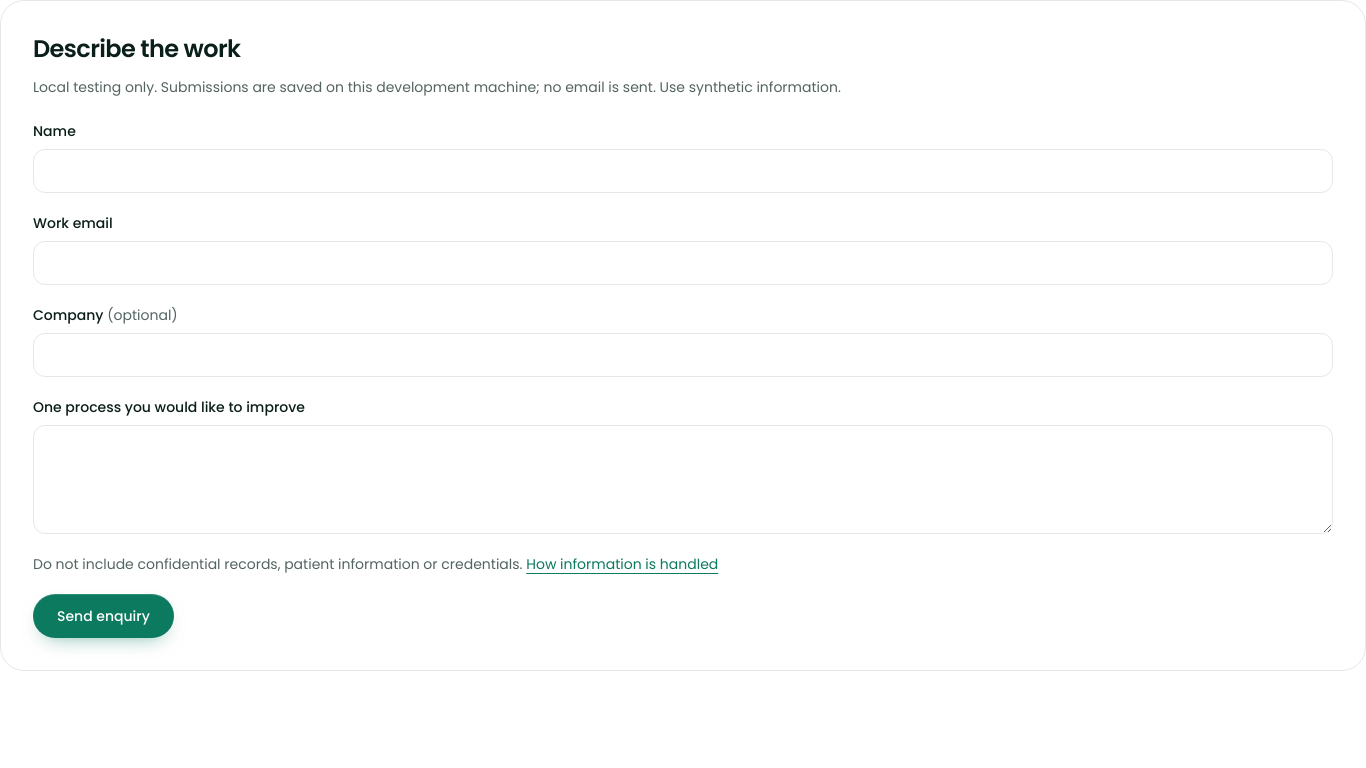
Test: contact flow › keeps values and presents API errors without success
This screenshot has width=1366, height=768.
Step 1. Type "Test user" into the field labelled "Name" → point(683, 171), box [33,149,1333,193]
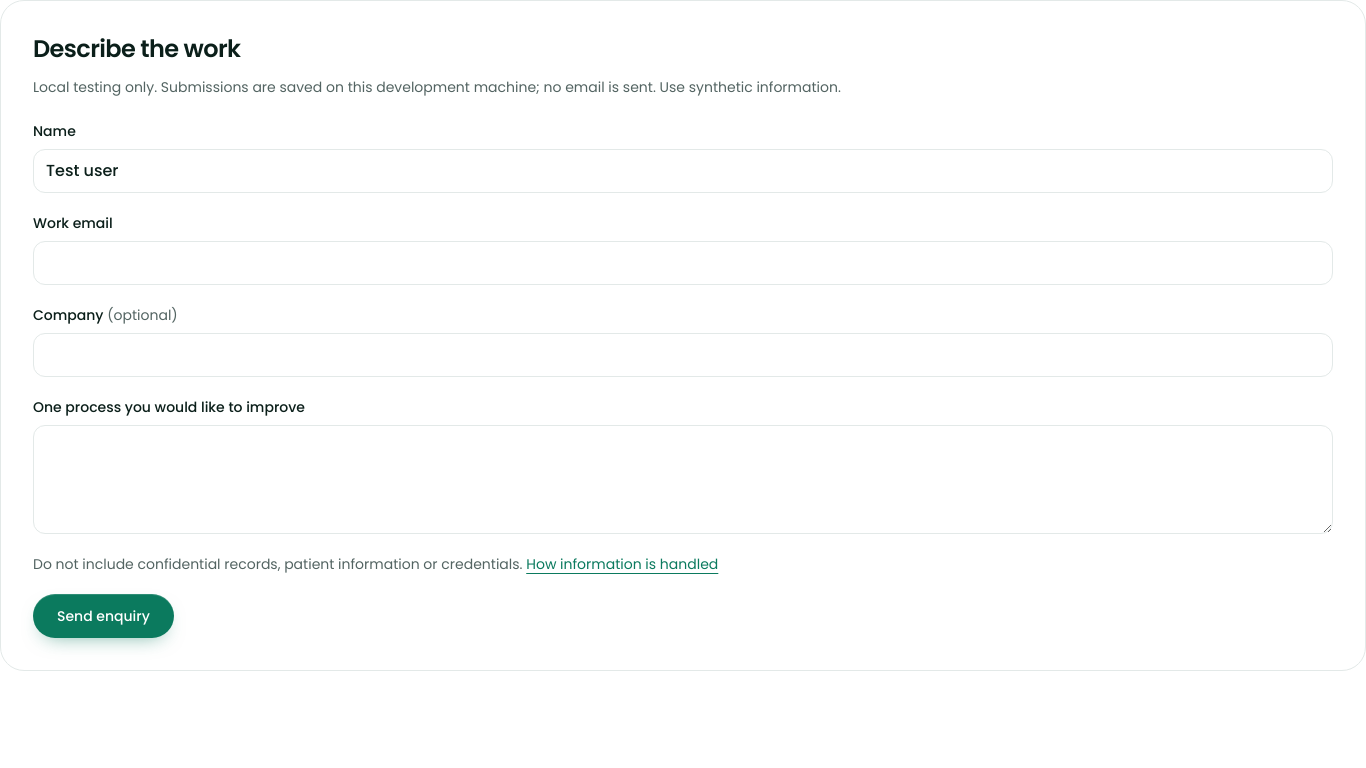
Step 2. Type "test@example.invalid" into the field labelled "Work email" → point(683, 263), box [33,241,1333,285]
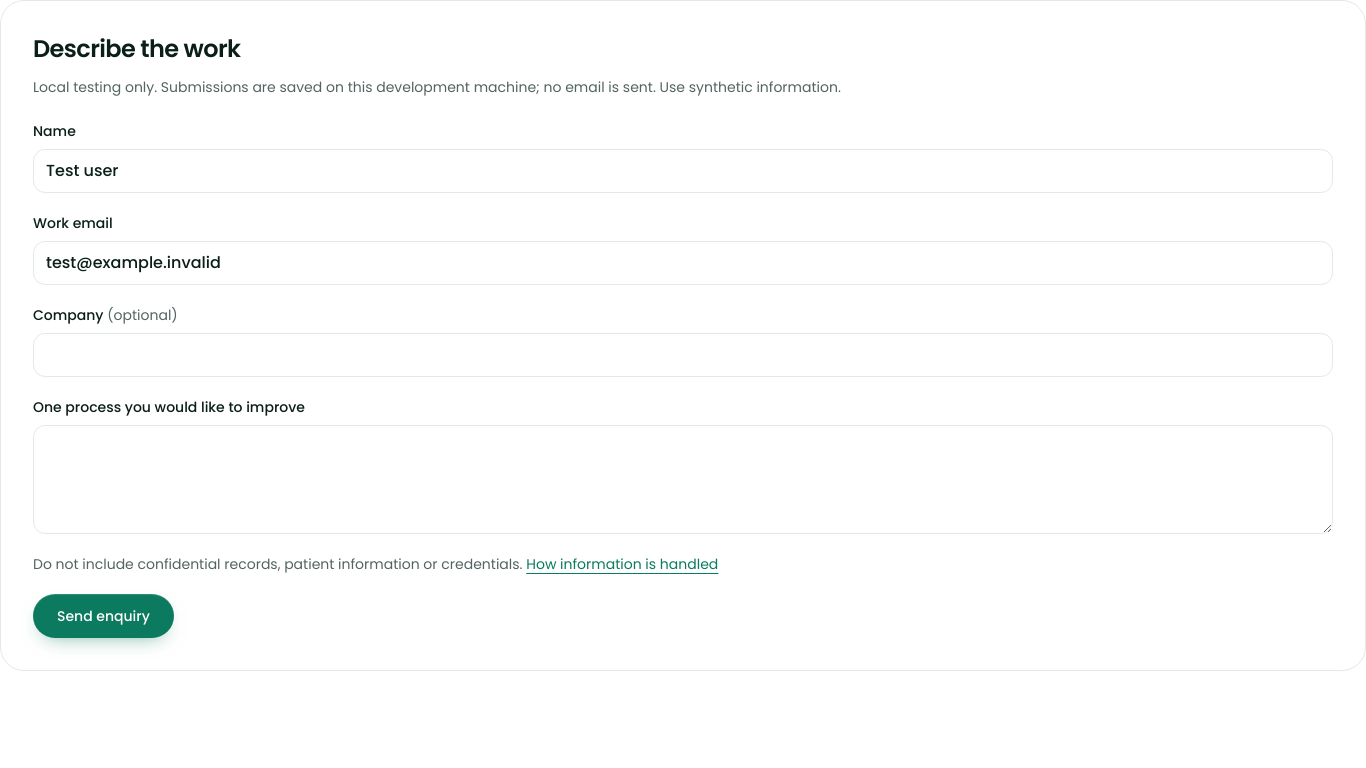
Step 3. Type "Synthetic workflow" into the text box labelled "One process you would like to improve" → point(683, 480), box [33,425,1333,534]
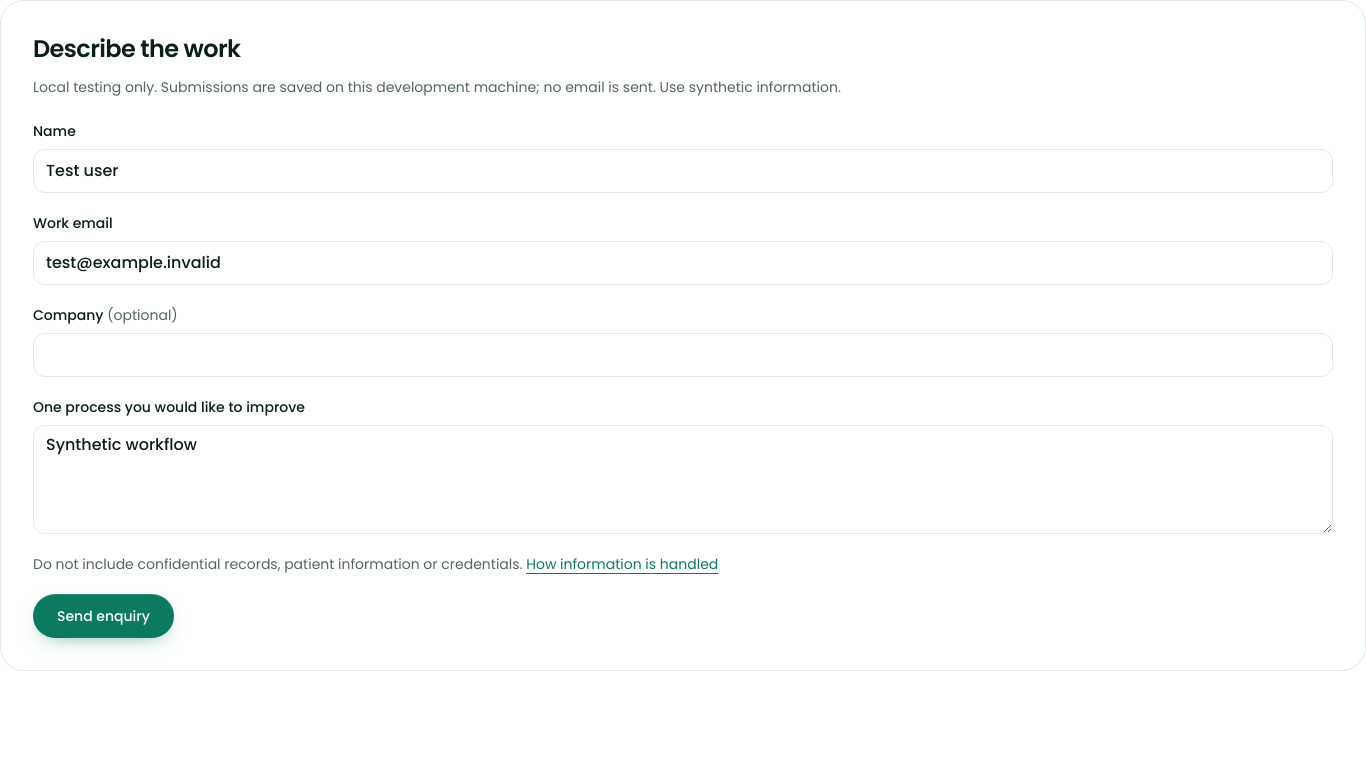
Step 4. Submit the form
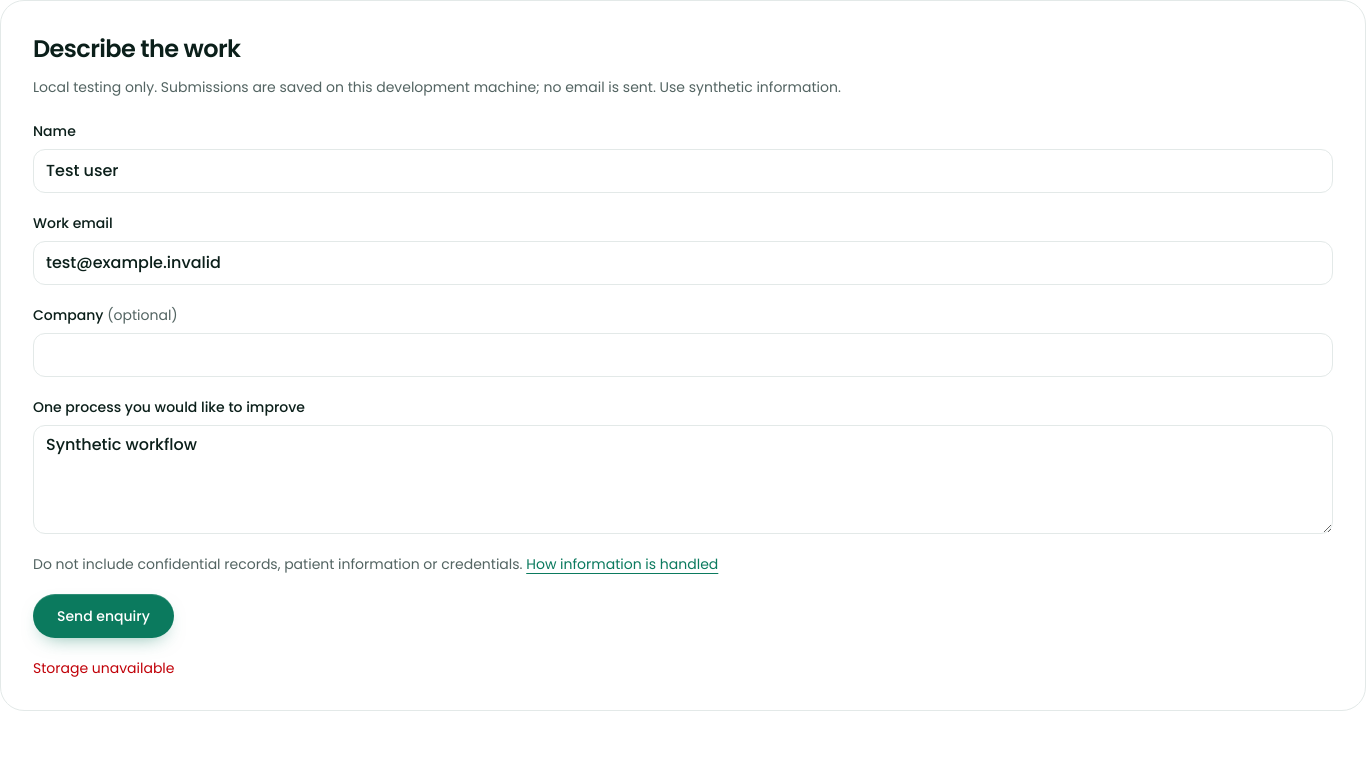
Check: the button "Send enquiry" is enabled, box [33,594,174,638]
Check: the message reads "Storage unavailable", box [33,658,174,678]
